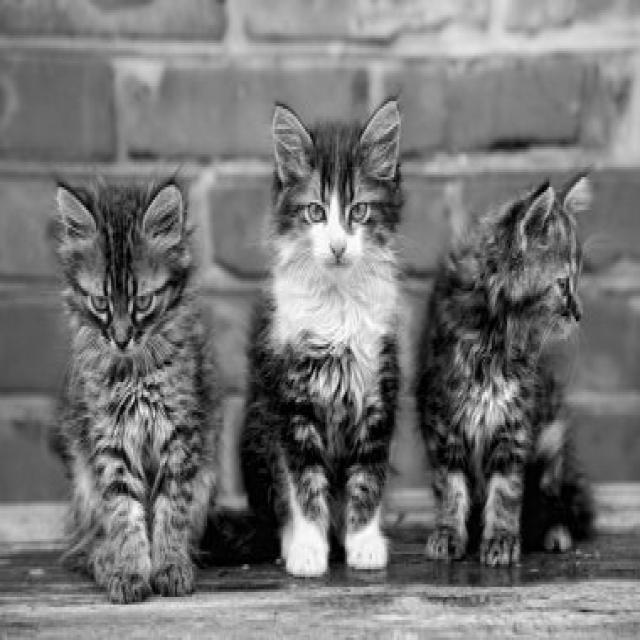Animal: (243, 100, 402, 576), (50, 180, 219, 603), (416, 173, 593, 564)
